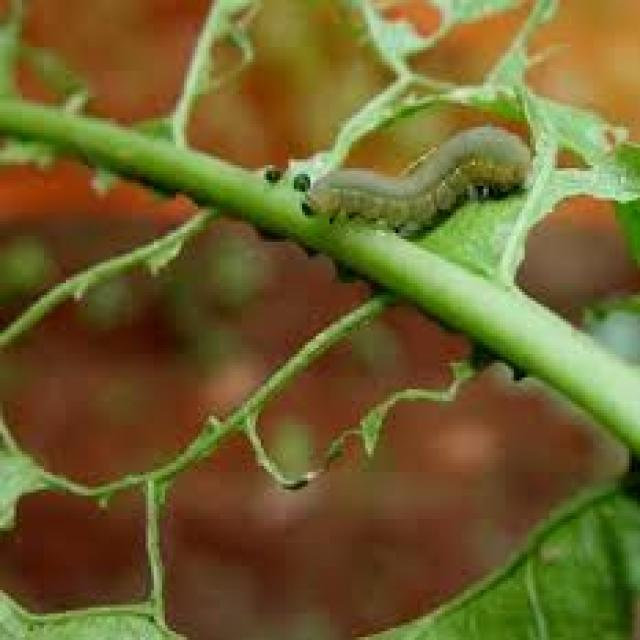Saw Fly: (298, 122, 540, 234)
